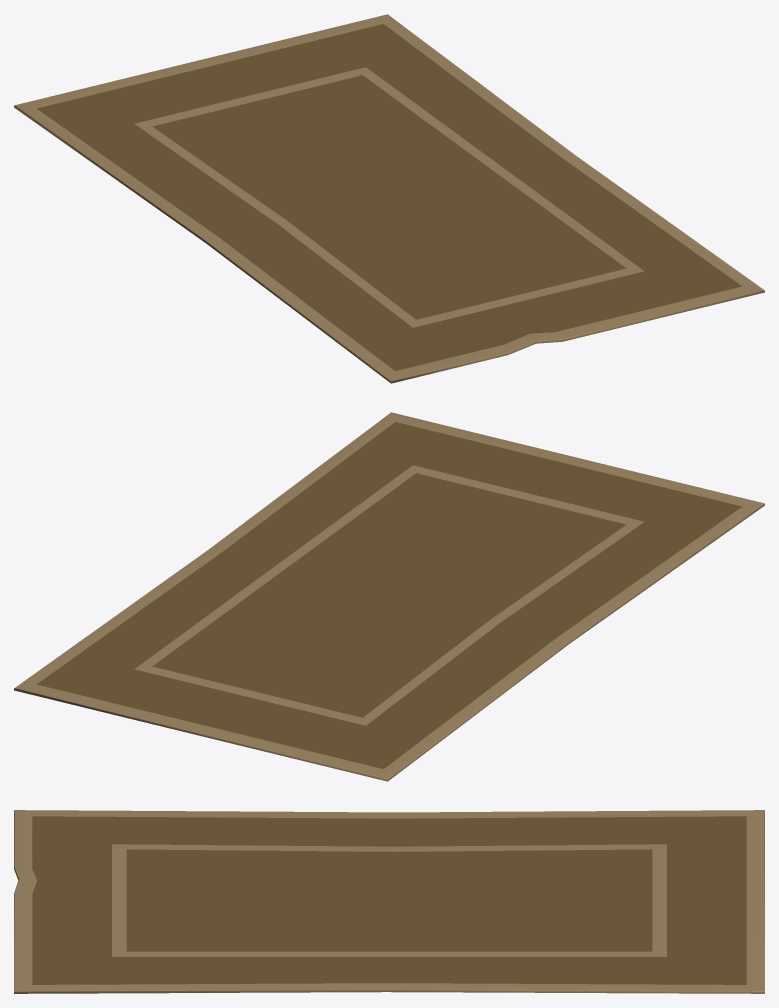
Rendered from model_rug_02.fbx.
The picture shows the model from 3 angles, top to bottom: view 1: azimuth 30°, elevation 25°; view 2: azimuth 150°, elevation 25°; view 3: azimuth 270°, elevation 25°; orthographic projection.
Parts seen in each view (by area): view 1: model_rug_02; view 2: model_rug_02; view 3: model_rug_02.
Boxes of the visible parts, box(x1,y1,x2,y2) form: model_rug_02: box(14, 14, 764, 383); model_rug_02: box(14, 412, 764, 781); model_rug_02: box(14, 810, 764, 993).
Bounding box in the file's own units: 277 × 3.38 × 483.
Materials: 1 (1 with a texture image).
